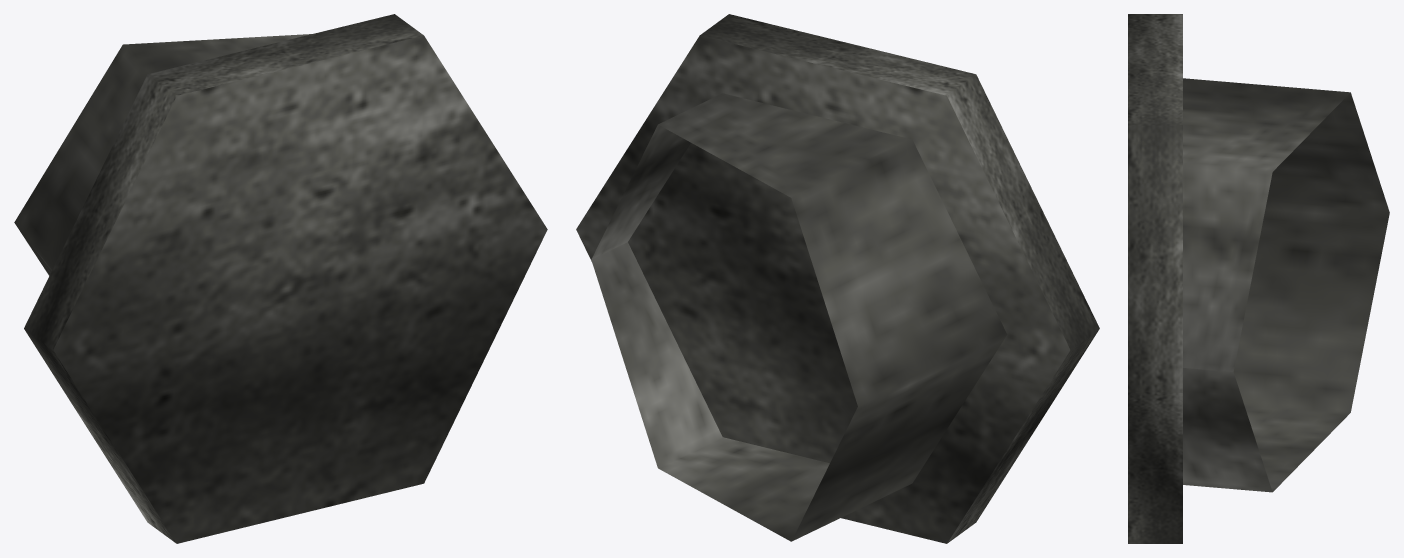
File: large_metal_2_elbow_hz_22-5.fbx
3 renders of one model, left to right at view 1: azimuth 30°, elevation 25°; view 2: azimuth 150°, elevation 25°; view 3: azimuth 270°, elevation 25°, orthographic. The views are drawn at different scales.
Visible parts, largest first — view 1: polySurface672; view 2: polySurface672; view 3: polySurface672.
Boxes of the visible parts, x1,y1,x2,y2 form: polySurface672: (14, 14, 547, 543); polySurface672: (576, 14, 1099, 543); polySurface672: (1128, 14, 1389, 543).
Bounding box in the file's own units: 1.3 × 1.13 × 0.6411.
